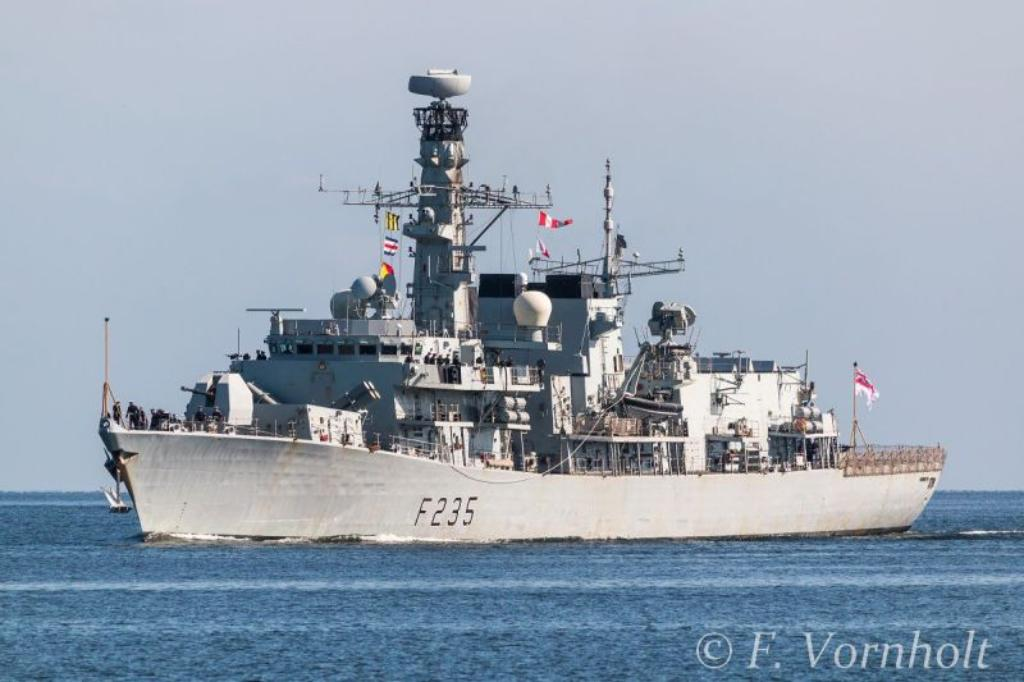Warship: (95, 58, 955, 546)
